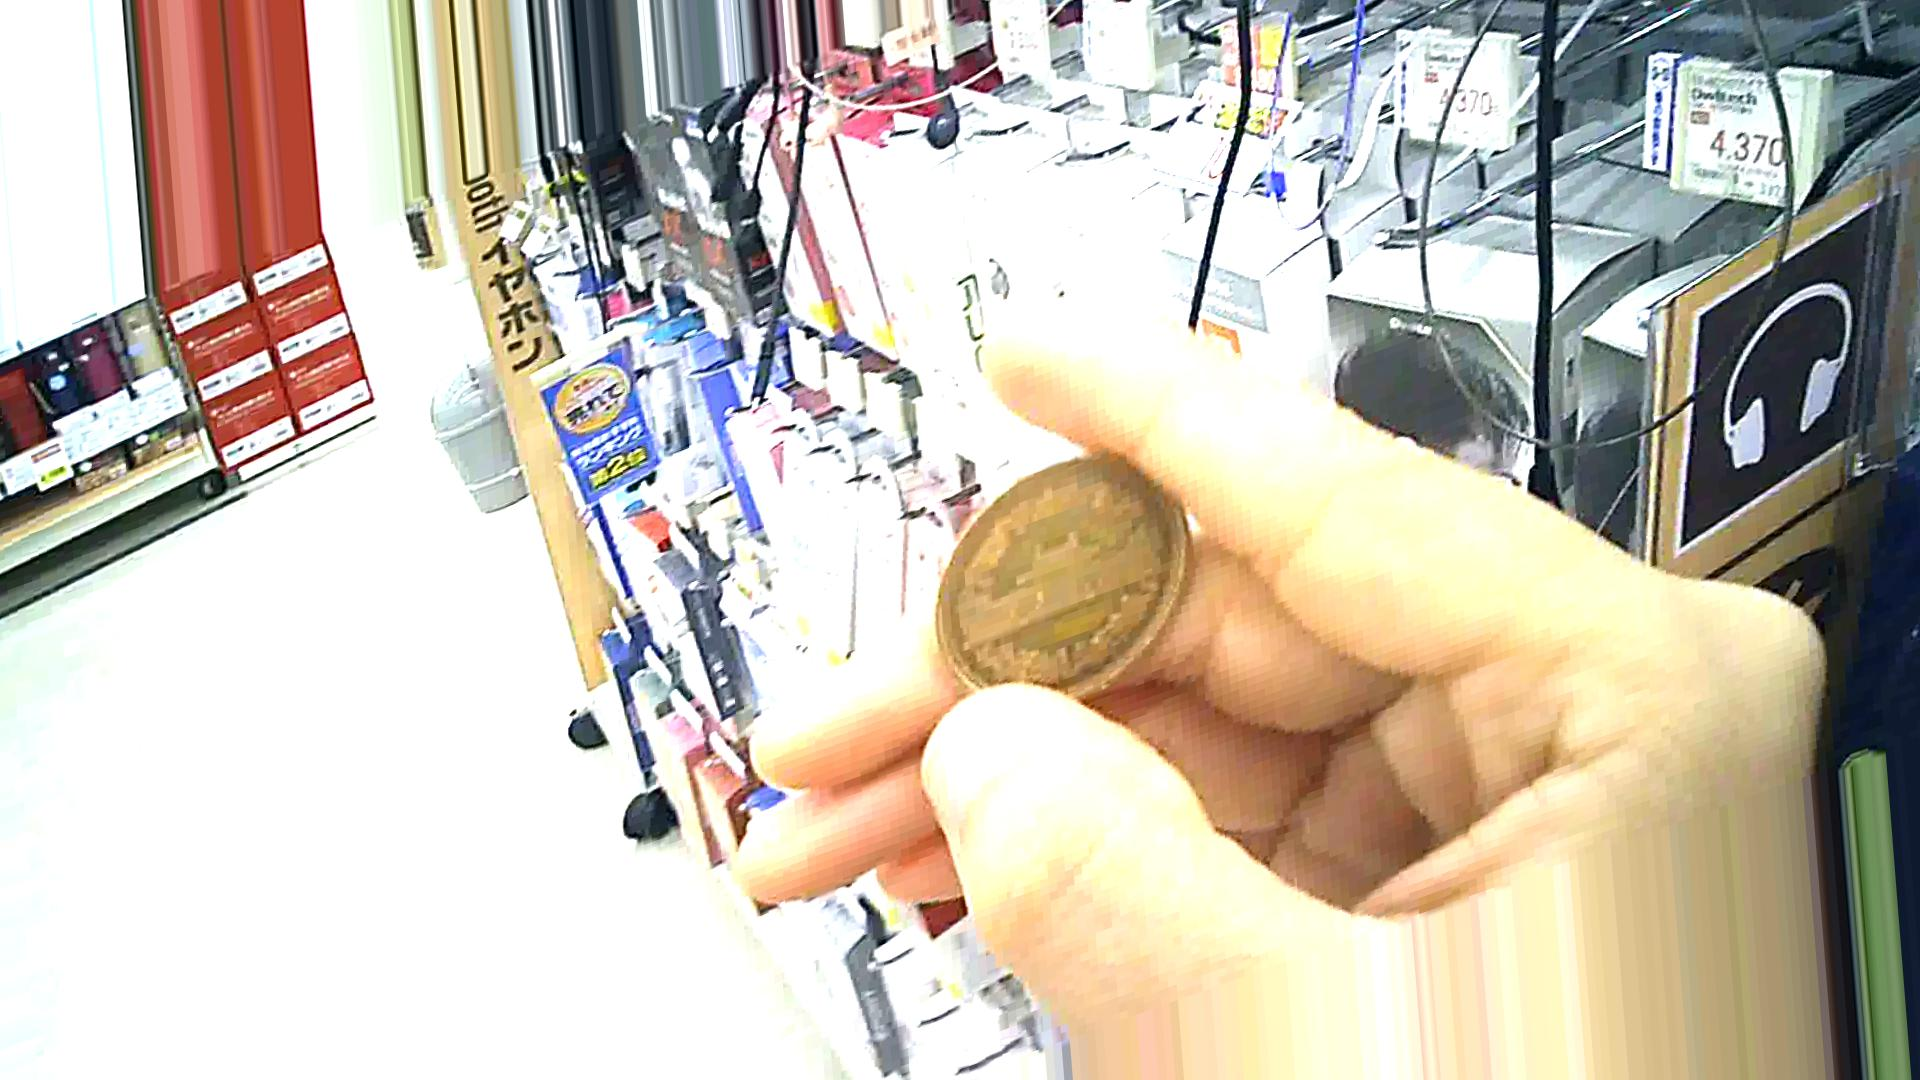10 Yen: (928, 443, 1209, 733)
